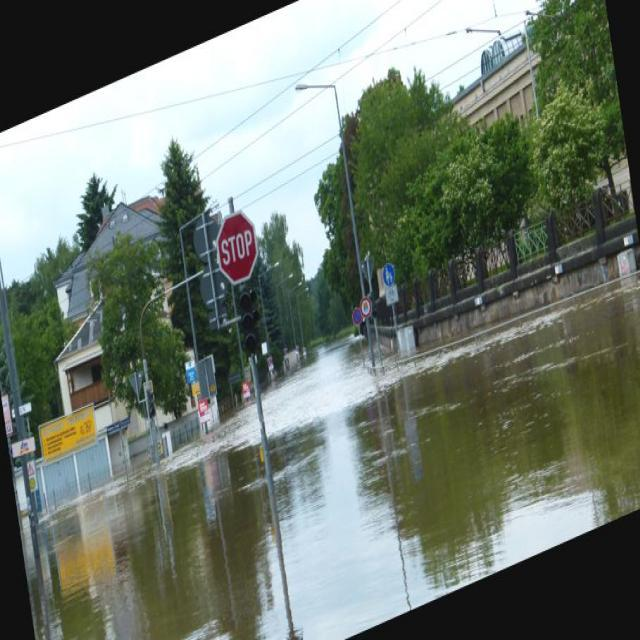flood: (20, 254, 639, 639)
